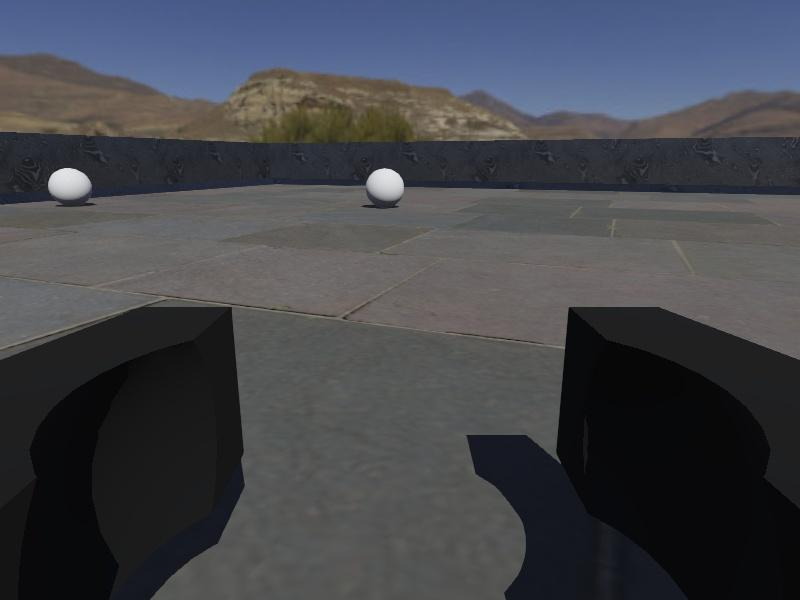white ball: (47, 165, 93, 207), (365, 168, 405, 209)
